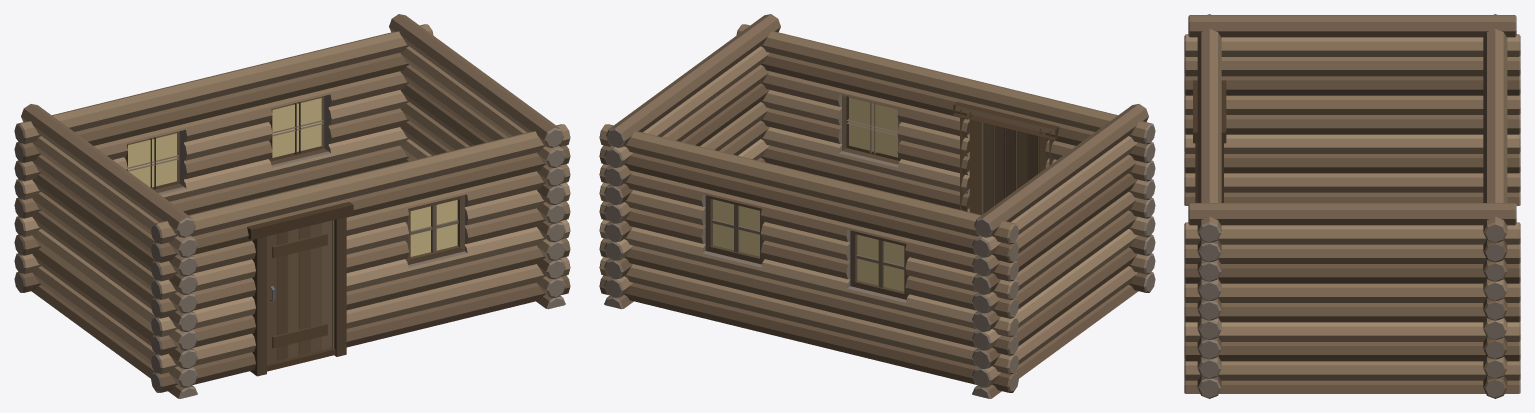
Rendered from Bld_HouseFloor_01.fbx.
3 views of the same model, side by side, from view 1: azimuth 30°, elevation 25°; view 2: azimuth 150°, elevation 25°; view 3: azimuth 270°, elevation 25° (orthographic). The views are drawn at different scales.
Visible parts, largest first — view 1: Bld_HouseFloor_01; view 2: Bld_HouseFloor_01; view 3: Bld_HouseFloor_01.
Part boxes in pixels (x1=…): Bld_HouseFloor_01: x1=14, y1=14, x2=570, y2=398; Bld_HouseFloor_01: x1=599, y1=14, x2=1155, y2=398; Bld_HouseFloor_01: x1=1184, y1=14, x2=1520, y2=398.
Size of the model in its own units: 6.24 by 2.6 by 4.24.
